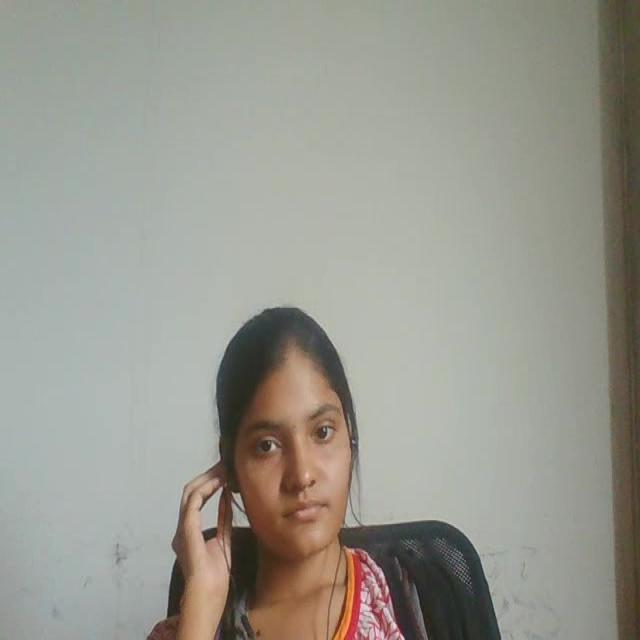Bored: (192, 279, 390, 579)
